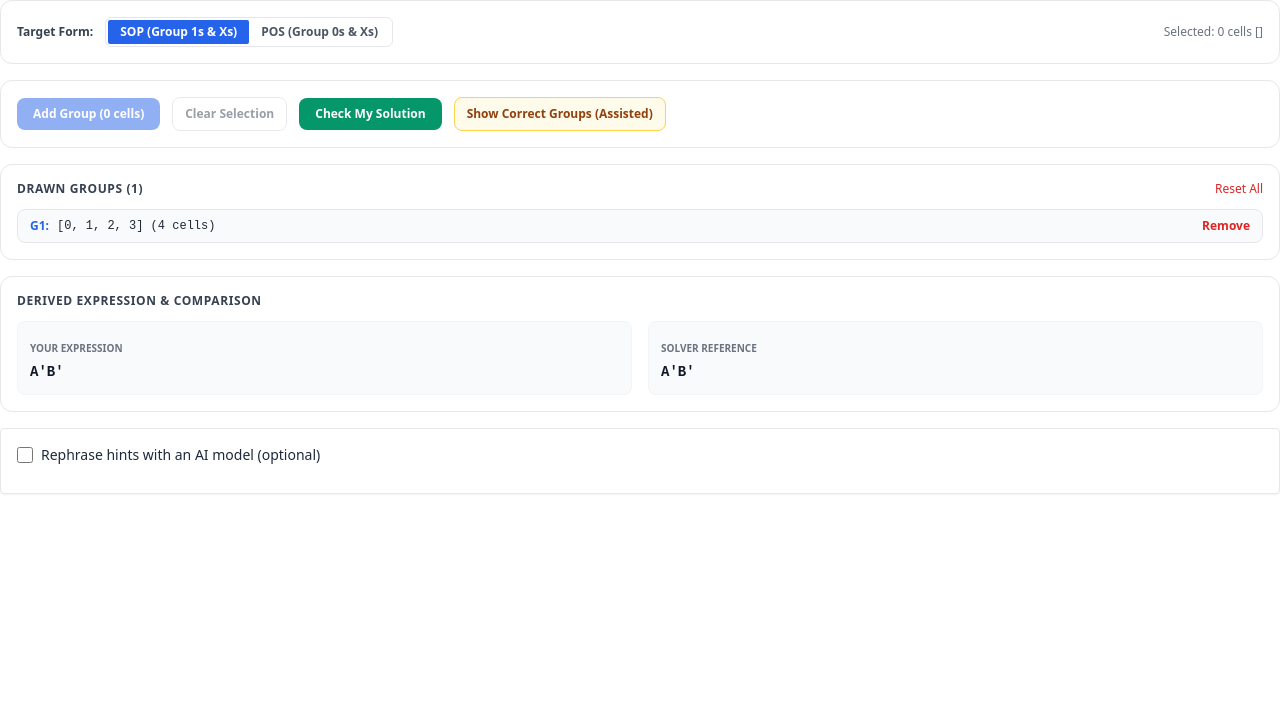
Test: StudentModePanel › accepts a final complete set of groups on Check My Solution
Step 1. Click the button "Check My Solution" → [370, 114], box [299, 98, 442, 130]
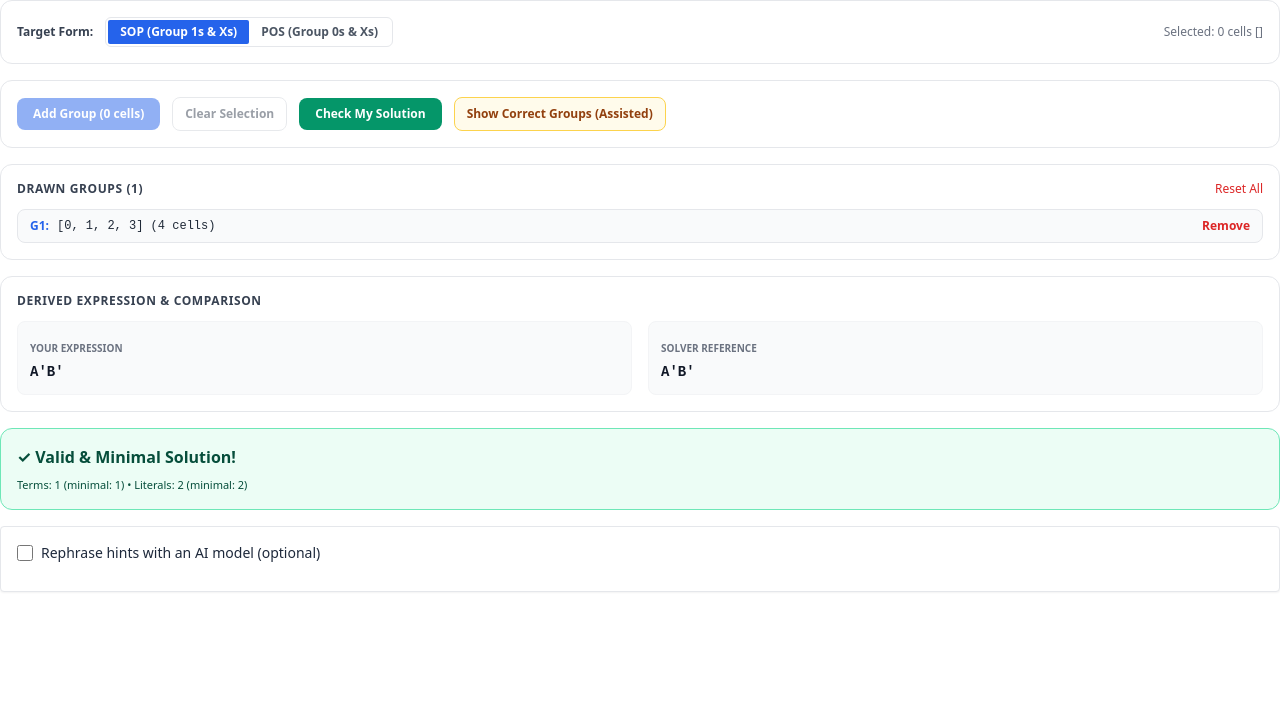
expect the text "✓ Valid & Minimal Solution!" is shown: met, box [17, 445, 236, 469]
